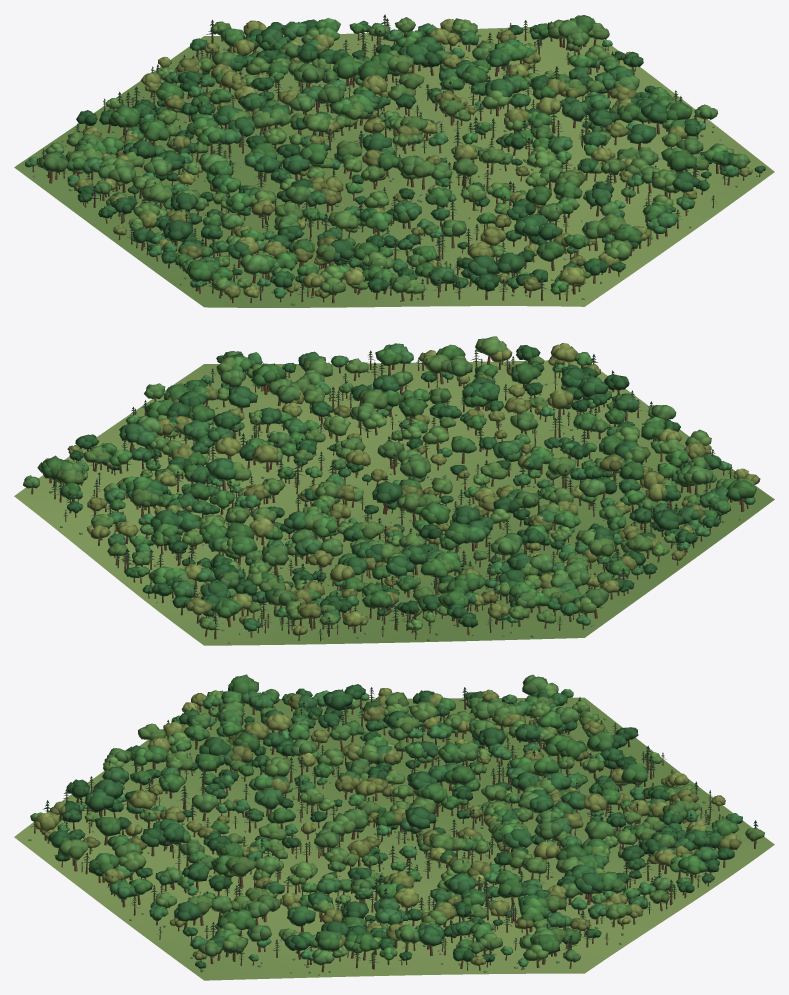
The picture shows the model from 3 angles, top to bottom: view 1: azimuth 30°, elevation 25°; view 2: azimuth 150°, elevation 25°; view 3: azimuth 270°, elevation 25°; orthographic projection.
Parts seen in each view (by area): view 1: broadleaf_canopy, terrain, trunks, conifer_canopy, shrubs; view 2: broadleaf_canopy, terrain, trunks, conifer_canopy; view 3: broadleaf_canopy, terrain, trunks, conifer_canopy, shrubs.
Boxes of the visible parts, bbox=[...] form: broadleaf_canopy: bbox=[25, 15, 765, 298]; terrain: bbox=[14, 27, 774, 307]; trunks: bbox=[32, 16, 760, 303]; conifer_canopy: bbox=[41, 14, 727, 295]; shrubs: bbox=[44, 29, 757, 305]; broadleaf_canopy: bbox=[23, 336, 760, 635]; terrain: bbox=[14, 360, 774, 645]; trunks: bbox=[31, 350, 748, 641]; conifer_canopy: bbox=[52, 349, 733, 635]; broadleaf_canopy: bbox=[30, 674, 764, 968]; terrain: bbox=[14, 697, 774, 980]; trunks: bbox=[34, 687, 756, 972]; conifer_canopy: bbox=[31, 687, 758, 964]; shrubs: bbox=[28, 705, 706, 975].
Bounding box in the file's own units: 4330 × 294 × 5000.
